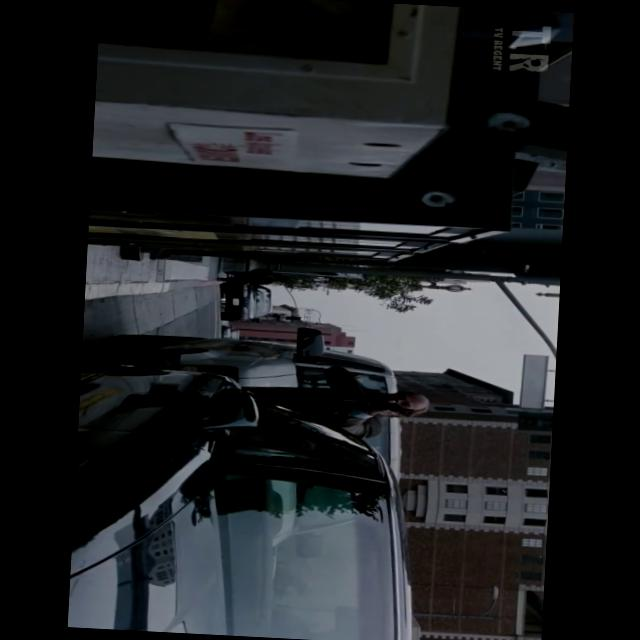long weapon: (322, 377, 422, 428)
